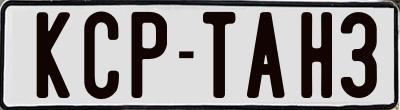3: (339, 10, 380, 100)
A: (244, 11, 286, 103)
C: (81, 11, 118, 104)
H: (299, 12, 336, 100)
K: (37, 9, 73, 97)
P: (131, 9, 172, 96)
T: (202, 12, 238, 103)
